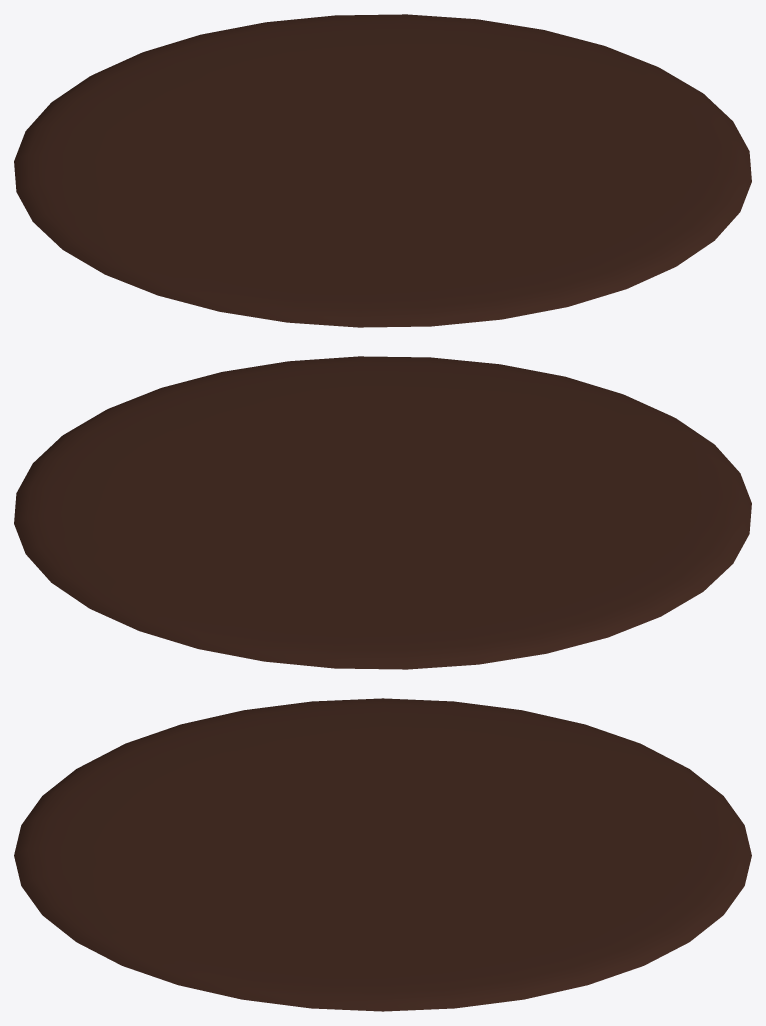
File: rug.glb
3 renders of one model, top to bottom at view 1: azimuth 30°, elevation 25°; view 2: azimuth 150°, elevation 25°; view 3: azimuth 270°, elevation 25°, orthographic.
Parts seen in each view (by area): view 1: Rug; view 2: Rug; view 3: Rug.
Part boxes in pixels (<box>): Rug: <box>14,14,751,327</box>; Rug: <box>14,356,751,669</box>; Rug: <box>14,698,751,1011</box>.
Bounding box in the file's own units: 3.03 × 0.0399 × 3.03.
Materials: 1 (1 with a texture image).
